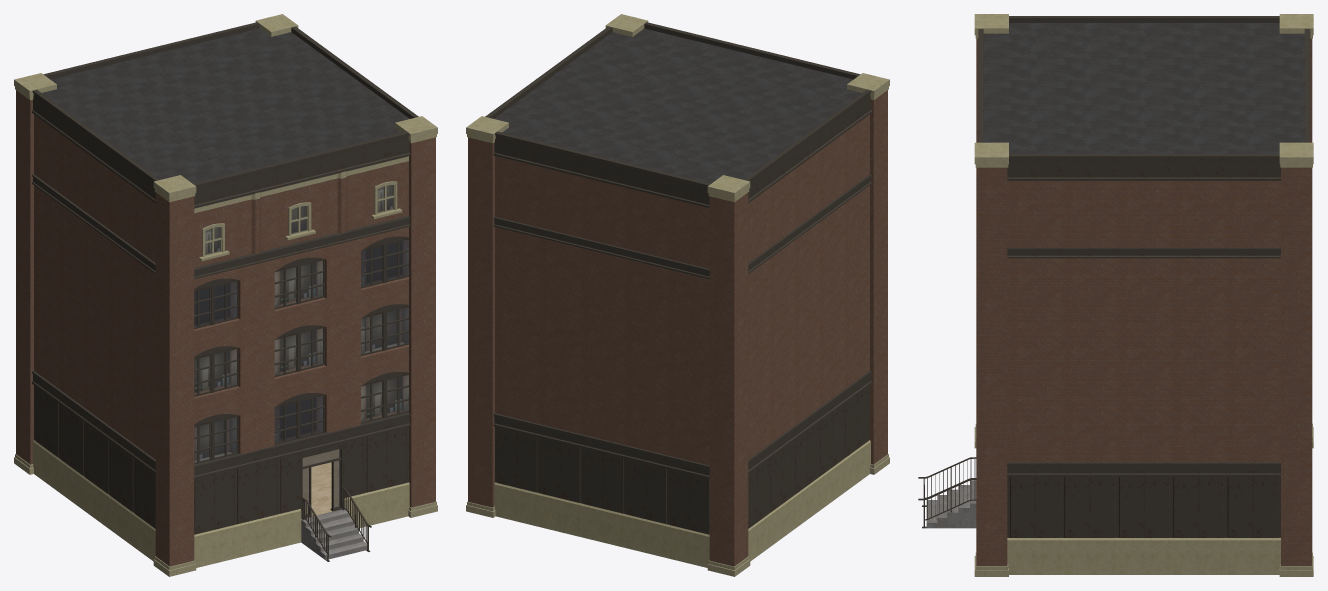
File: Building_Small_1.glb
The picture shows the model from 3 angles, left to right: view 1: azimuth 30°, elevation 25°; view 2: azimuth 150°, elevation 25°; view 3: azimuth 270°, elevation 25°; orthographic projection. The views are drawn at different scales.
Visible parts, largest first — view 1: Building_Small_1; view 2: Building_Small_1; view 3: Building_Small_1.
Part boxes in pixels (bbox=[...]): Building_Small_1: bbox=[14, 14, 437, 576]; Building_Small_1: bbox=[466, 14, 889, 576]; Building_Small_1: bbox=[918, 14, 1313, 576].
Size of the model in its own units: 12.46 by 17.03 by 14.54.
10 materials, 9 textured.
